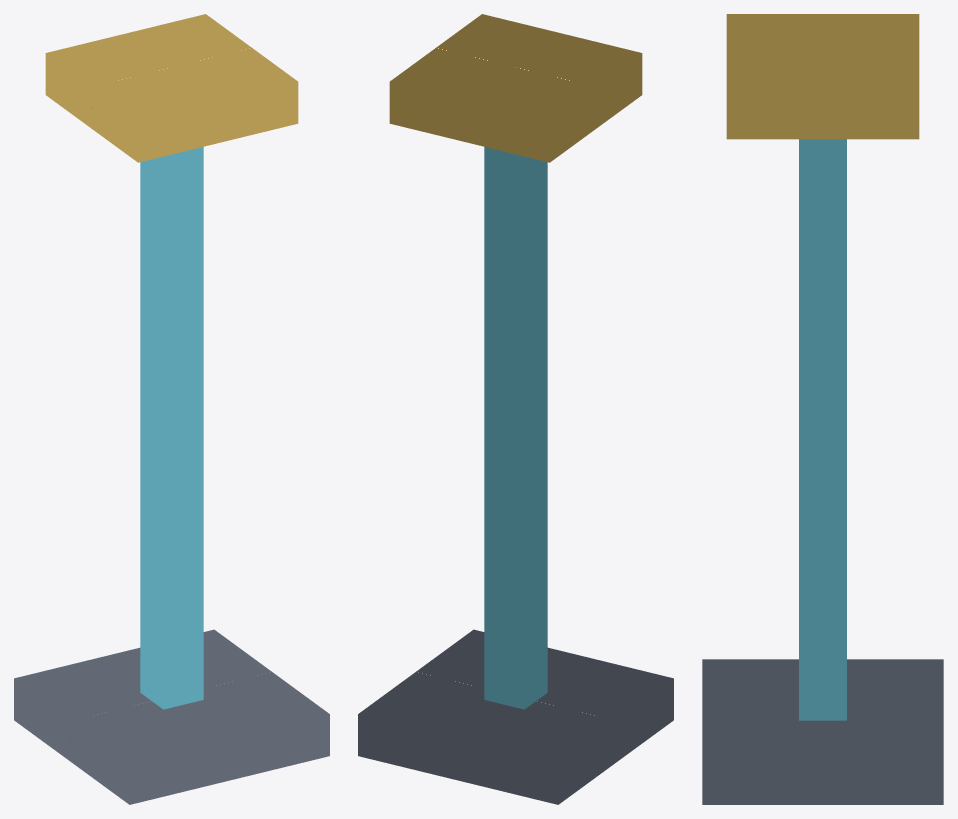
File: column_buckling.glb
The picture shows the model from 3 angles, left to right: view 1: azimuth 30°, elevation 25°; view 2: azimuth 150°, elevation 25°; view 3: azimuth 270°, elevation 25°; orthographic projection. The views are drawn at different scales.
Parts seen in each view (by area): view 1: ColumnStrut, BasePlate, TopCap; view 2: ColumnStrut, BasePlate, TopCap; view 3: BasePlate, ColumnStrut, TopCap.
Part boxes in pixels (x1=…): ColumnStrut: x1=140, y1=147, x2=203, y2=709; BasePlate: x1=14, y1=629, x2=329, y2=804; TopCap: x1=45, y1=14, x2=298, y2=162; ColumnStrut: x1=484, y1=147, x2=547, y2=709; BasePlate: x1=358, y1=629, x2=673, y2=804; TopCap: x1=389, y1=14, x2=642, y2=162; BasePlate: x1=702, y1=659, x2=943, y2=804; ColumnStrut: x1=799, y1=139, x2=846, y2=720; TopCap: x1=726, y1=14, x2=919, y2=139.
Bounding box in the file's own units: 1 × 3.2 × 1.
